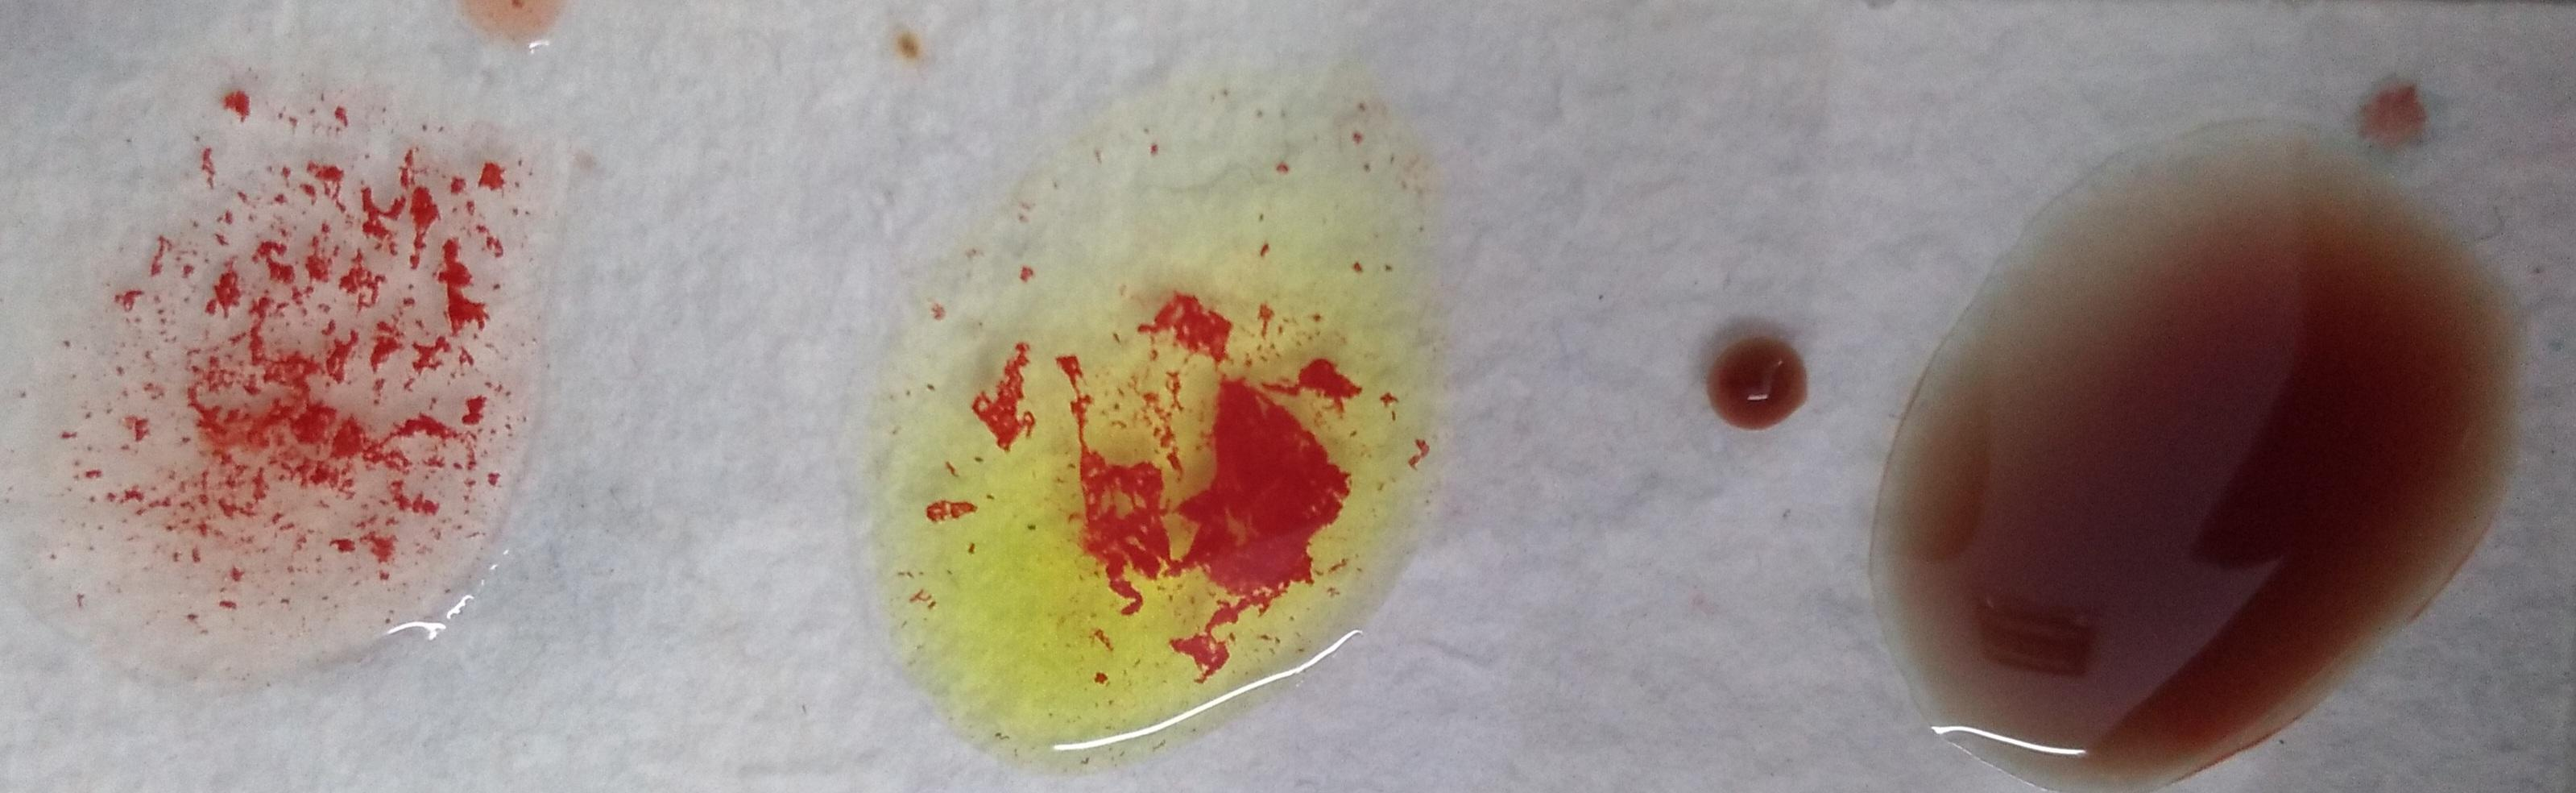B: (876, 39, 1442, 772)
D: (25, 39, 542, 696)
